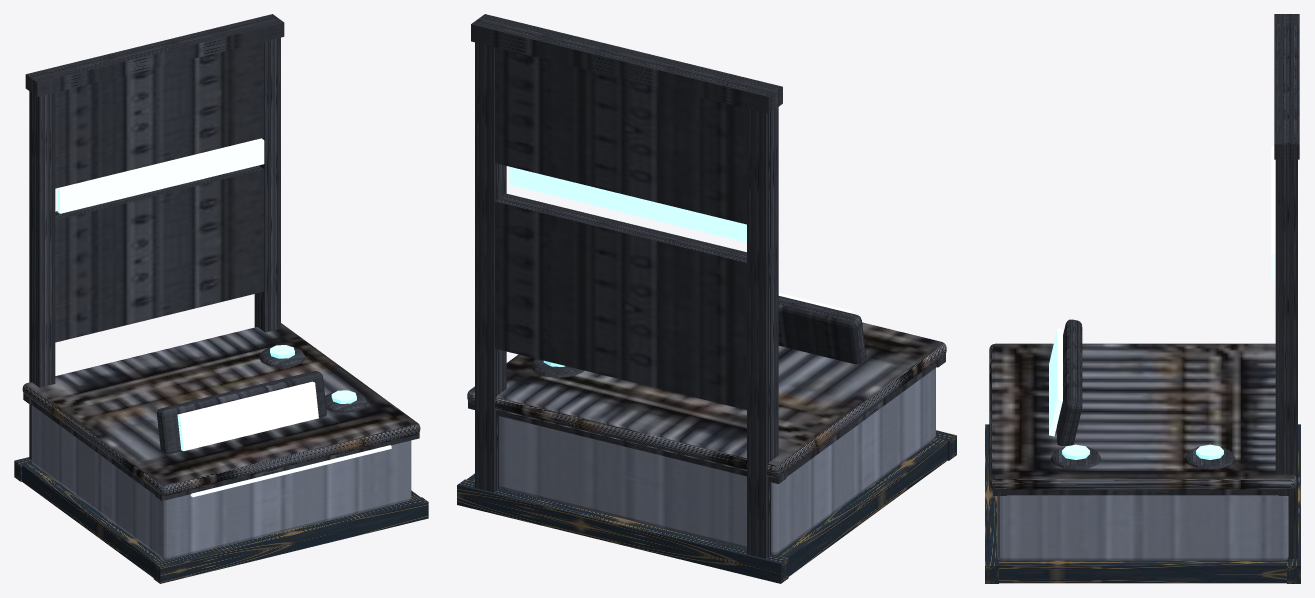
File: med_ventilator.glb
The picture shows the model from 3 angles, left to right: view 1: azimuth 30°, elevation 25°; view 2: azimuth 150°, elevation 25°; view 3: azimuth 270°, elevation 25°; orthographic projection. The views are drawn at different scales.
Visible parts, largest first — view 1: sight_shell, top, cart, shelltoe0, sightglow, screenglow, shelltoes0, screenbody, shellrim0, shellglow, shellrims0, bottle1; view 2: sight_shell, cart, top, shelltoe2, shelltoes0, sightglow, screenbody, shellrim2, shellrims0; view 3: top, cart, sight_shell, shelltoes2, screenbody, shellrims2, shelltoe0, screenglow, shelltoe2, sightglow, bottle0, bottle1.
Boxes of the visible parts, left/top/right/bottom form: sight_shell: left=25, top=14, right=284, bottom=459; top: left=22, top=323, right=420, bottom=495; cart: left=31, top=405, right=411, bottom=559; shelltoe0: left=153, top=497, right=428, bottom=583; sightglow: left=57, top=138, right=264, bottom=213; screenglow: left=177, top=381, right=318, bottom=451; shelltoes0: left=20, top=461, right=167, bottom=577; screenbody: left=157, top=371, right=326, bottom=454; shellrim0: left=155, top=432, right=419, bottom=500; shellglow: left=190, top=445, right=391, bottom=497; shellrims0: left=31, top=399, right=155, bottom=494; bottle1: left=259, top=346, right=305, bottom=367; sight_shell: left=471, top=14, right=782, bottom=558; cart: left=499, top=368, right=935, bottom=554; top: left=467, top=322, right=946, bottom=477; shelltoe2: left=457, top=479, right=788, bottom=583; shelltoes0: left=774, top=437, right=947, bottom=576; sightglow: left=509, top=166, right=746, bottom=242; screenbody: left=778, top=296, right=866, bottom=364; shellrim2: left=468, top=401, right=786, bottom=484; shellrims0: left=786, top=361, right=936, bottom=476; top: left=989, top=343, right=1296, bottom=489; cart: left=997, top=495, right=1288, bottom=560; sight_shell: left=1274, top=14, right=1299, bottom=558; shelltoes2: left=999, top=560, right=1286, bottom=583; screenbody: left=1057, top=319, right=1082, bottom=445; shellrims2: left=1007, top=489, right=1278, bottom=495; shelltoe0: left=985, top=424, right=998, bottom=583; screenglow: left=1049, top=328, right=1062, bottom=436; shelltoe2: left=1287, top=424, right=1300, bottom=583; sightglow: left=1271, top=146, right=1275, bottom=279; bottle0: left=1051, top=446, right=1100, bottom=469; bottle1: left=1185, top=446, right=1234, bottom=469.
Size of the model in its own units: 1.19 by 1.7 by 1.12.
Materials: 8 (6 with a texture image).
